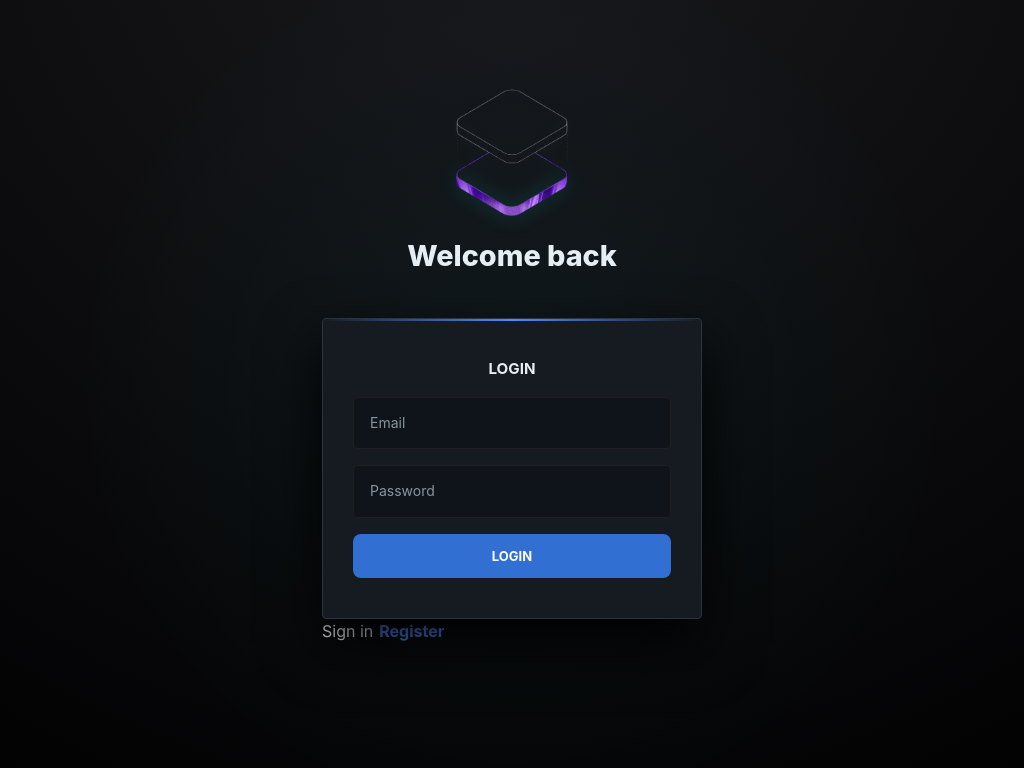
Authentication Flow › should show an error for invalid credentials
Type "wrong@example.com" into the field with placeholder "Email" at [512, 423], box [353,397,671,449]
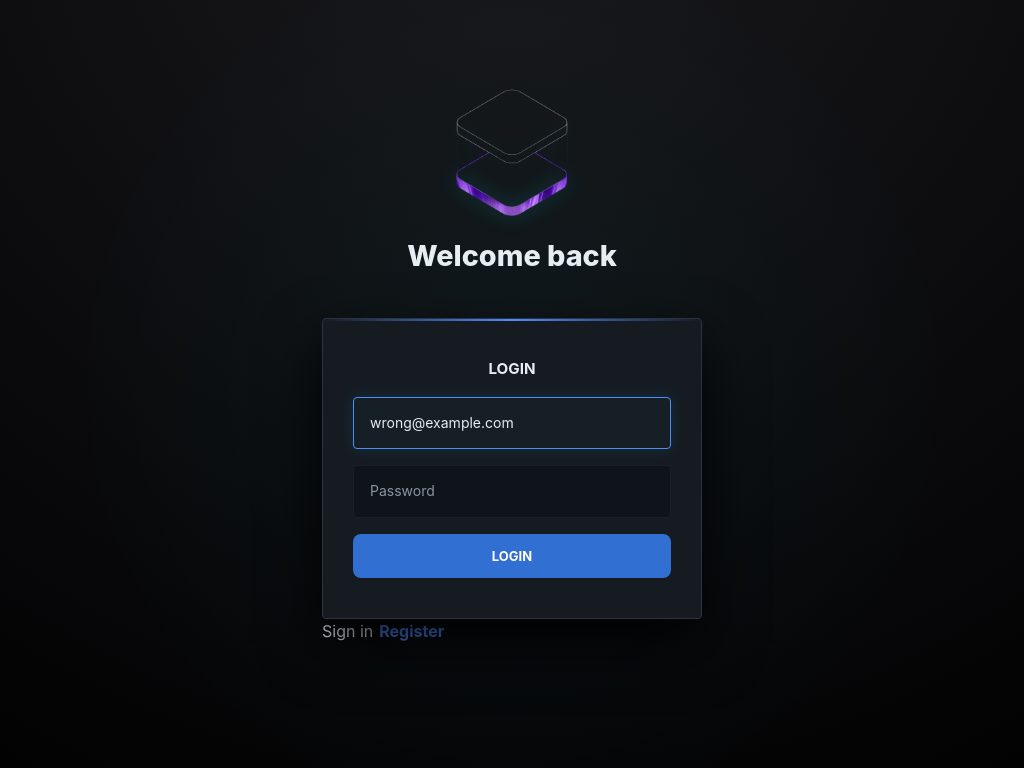
Type "wrong-password" into the password field with placeholder "Password" at [512, 491], box [353,465,671,517]
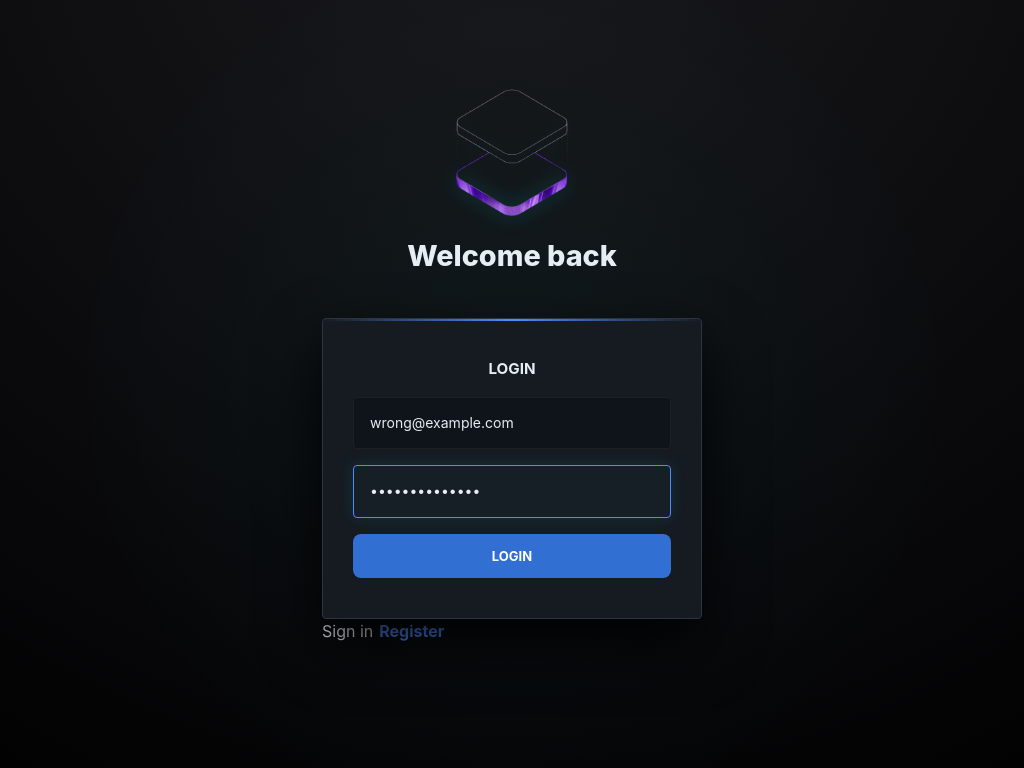
Click the submit button at [512, 557], box [353,534,671,579]
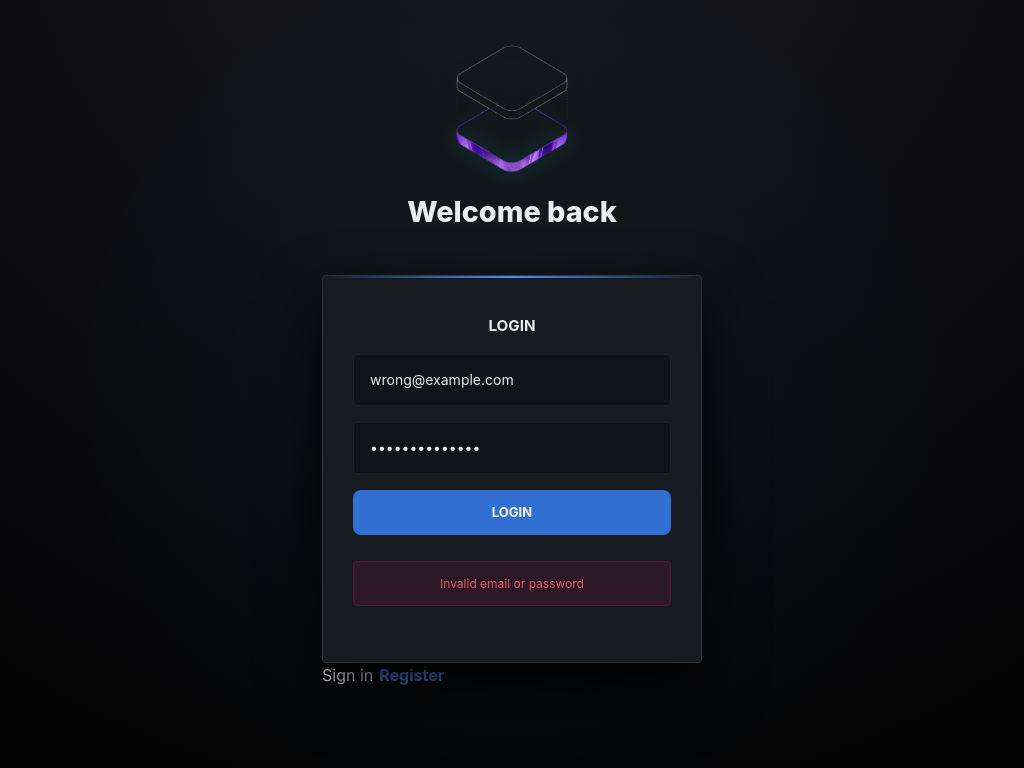
Check: the text "Invalid email or password" is shown, box [353,561,671,606]
